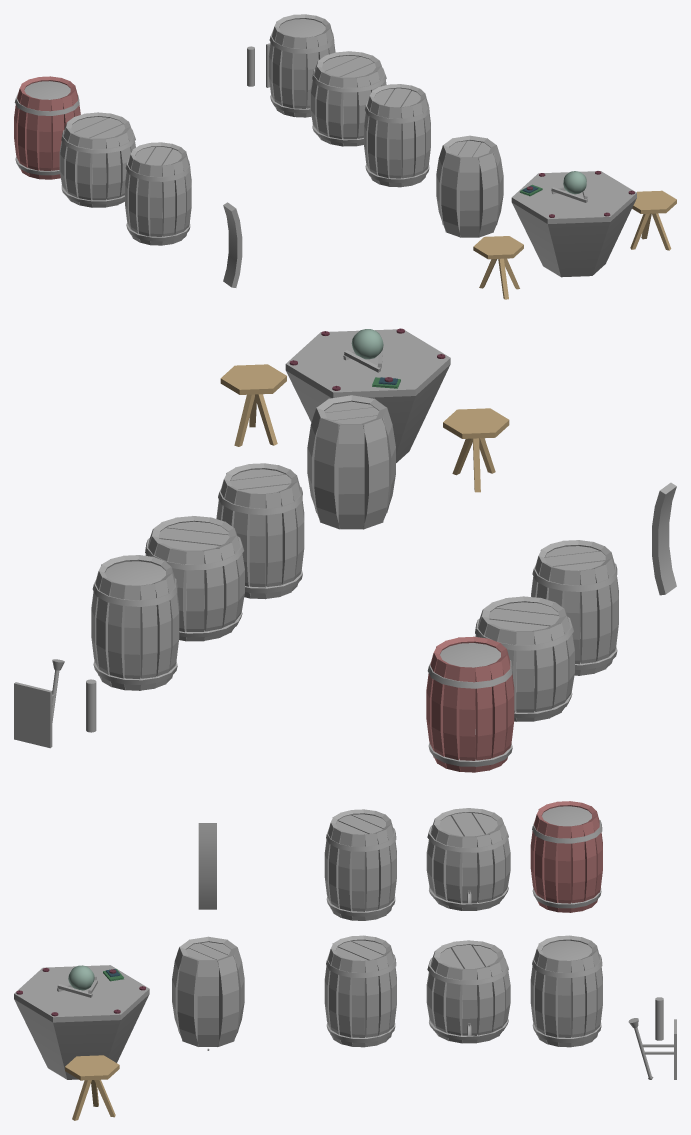
Rendered from antorcha.fbx.
The picture shows the model from 3 angles, top to bottom: view 1: azimuth 30°, elevation 25°; view 2: azimuth 150°, elevation 25°; view 3: azimuth 270°, elevation 25°; orthographic projection. The views are drawn at different scales.
Parts seen in each view (by area): view 1: polySurface4505, pCylinder191, pCube375, pCylinder197, polySurface4791, pCube357, polySurface4841, polySurface4838, polySurface4807, polySurface4810, polySurface4820, polySurface4846 (+12 smaller); view 2: polySurface4505, polySurface4791, pCube375, pCylinder191, pCylinder197, pCylinder204, pCube357, polySurface4843, polySurface4809, polySurface4804, polySurface4822, polySurface4814 (+12 smaller); view 3: polySurface4505, pCylinder197, pCylinder191, polySurface4791, pCube375, pCube357, polySurface4842, polySurface4795, polySurface4797, polySurface4847, polySurface4829, polySurface4818 (+15 smaller).
Boxes of the visible parts, left/top/right/bottom form: polySurface4505: left=473, top=171, right=676, bottom=299; pCylinder191: left=364, top=84, right=430, bottom=187; pCube375: left=436, top=135, right=503, bottom=237; pCylinder197: left=310, top=51, right=386, bottom=146; polySurface4791: left=268, top=14, right=335, bottom=117; pCube357: left=223, top=202, right=242, bottom=287; polySurface4841: left=161, top=164, right=175, bottom=245; polySurface4838: left=150, top=165, right=162, bottom=245; polySurface4807: left=39, top=99, right=51, bottom=179; polySurface4810: left=26, top=97, right=39, bottom=179; polySurface4820: left=77, top=137, right=92, bottom=207; polySurface4846: left=137, top=163, right=150, bottom=245; polySurface4505: left=220, top=328, right=509, bottom=492; polySurface4791: left=91, top=555, right=179, bottom=690; pCube375: left=307, top=395, right=395, bottom=529; pCylinder191: left=216, top=463, right=304, bottom=599; pCylinder197: left=145, top=516, right=244, bottom=641; pCylinder204: left=14, top=659, right=64, bottom=748; pCube357: left=652, top=482, right=676, bottom=595; polySurface4843: left=579, top=569, right=597, bottom=675; polySurface4809: left=475, top=665, right=492, bottom=772; polySurface4804: left=459, top=667, right=475, bottom=772; polySurface4822: left=532, top=628, right=553, bottom=721; polySurface4814: left=516, top=631, right=534, bottom=721; polySurface4505: left=14, top=965, right=149, bottom=1120; pCylinder197: left=426, top=940, right=510, bottom=1043; pCylinder191: left=324, top=935, right=396, bottom=1047; polySurface4791: left=530, top=935, right=602, bottom=1047; pCube375: left=172, top=936, right=244, bottom=1046; pCube357: left=198, top=823, right=216, bottom=909; polySurface4842: left=352, top=834, right=365, bottom=920; polySurface4795: left=570, top=825, right=585, bottom=912; polySurface4797: left=558, top=826, right=571, bottom=912; polySurface4847: left=364, top=833, right=378, bottom=920; polySurface4829: left=446, top=834, right=462, bottom=910; polySurface4818: left=475, top=834, right=493, bottom=910.
Size of what is drawn, in the model's own units: 614 by 155 by 752.
